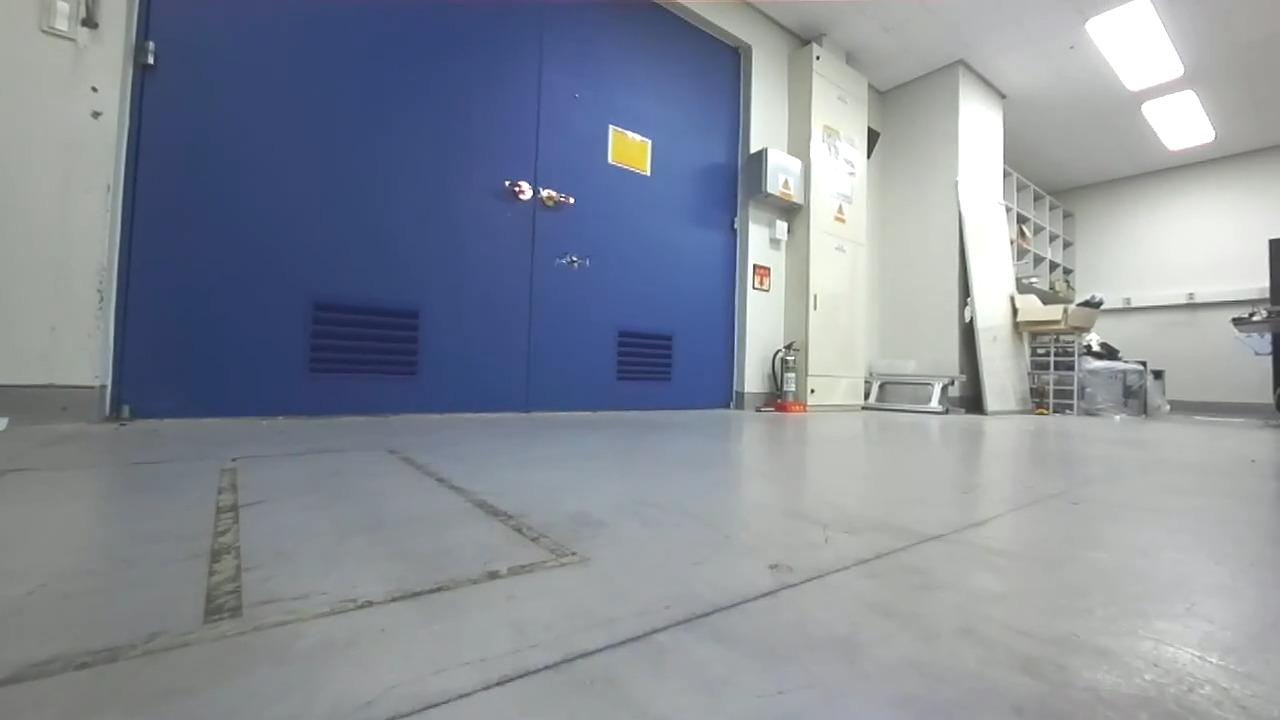crazyflie: (544, 252, 592, 273)
